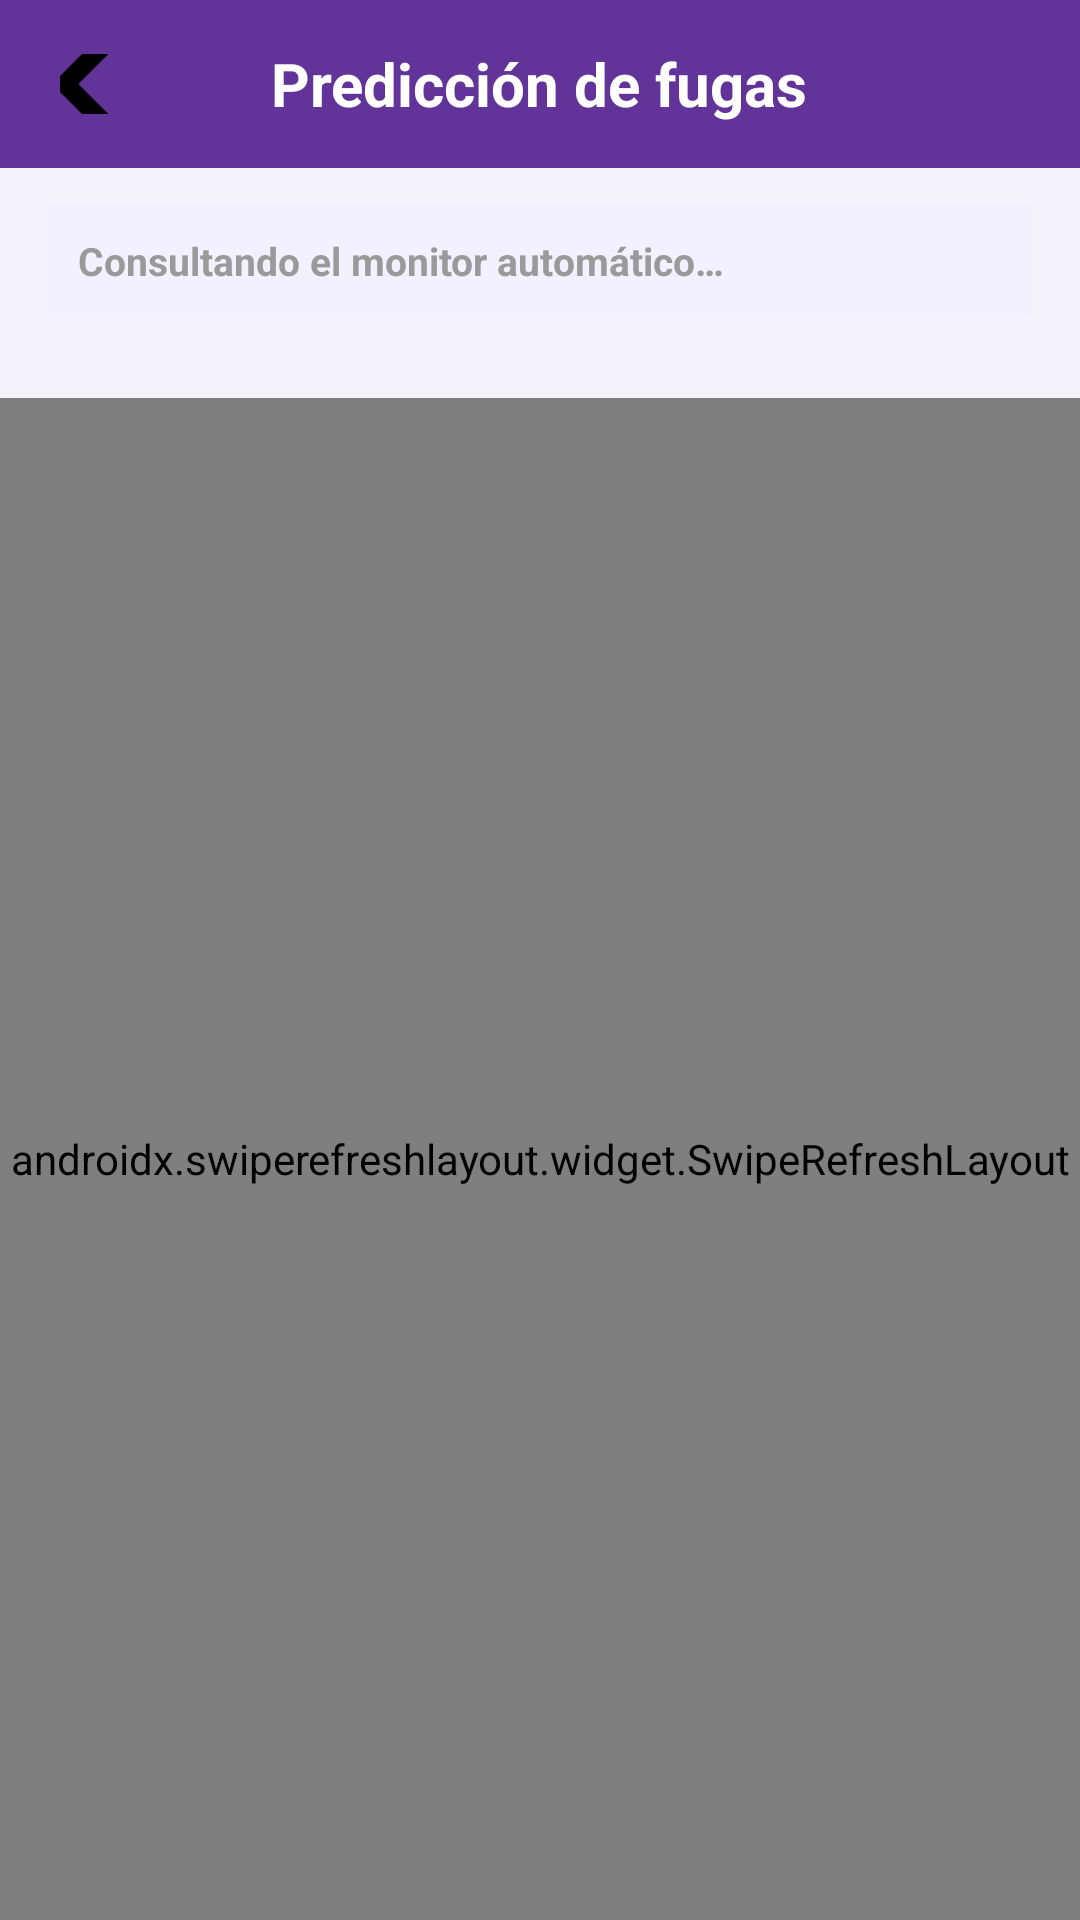

Icons on this 1080px×1920px Android screen, each with the point to tap as (x=x, y=y):
Volver: (x=84, y=84)
